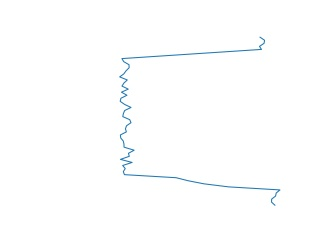distributaryChannelFill: (115, 36, 283, 208)
